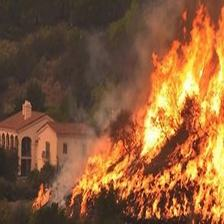fire: (57, 20, 222, 216)
